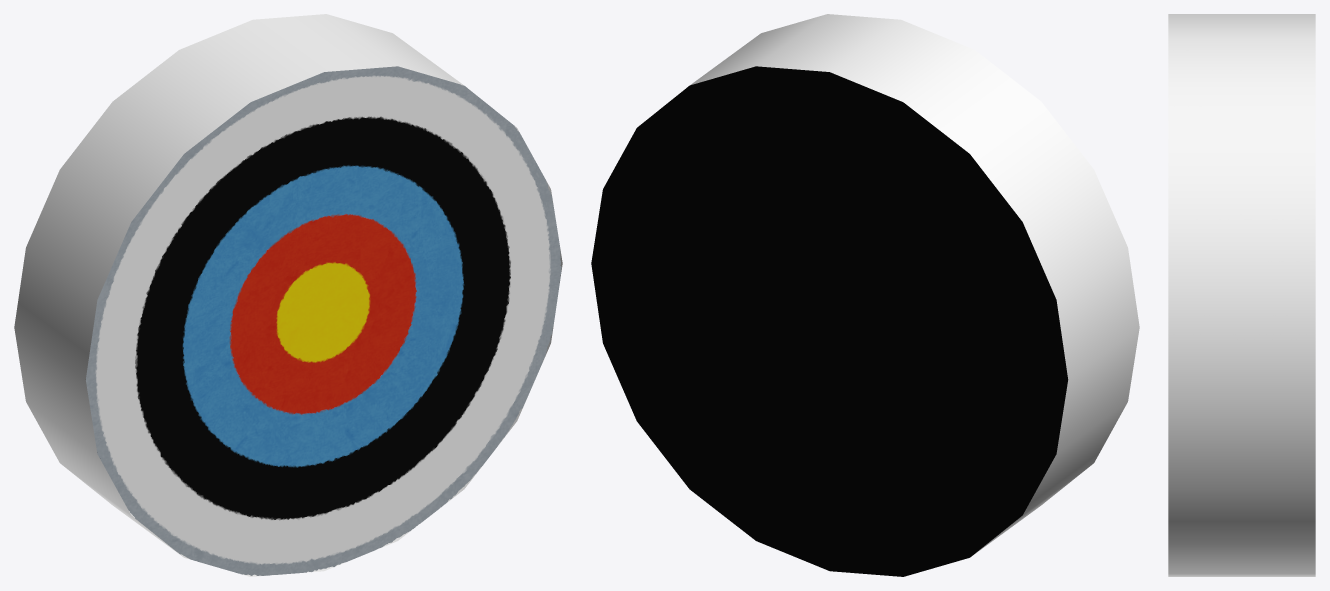
File: target.obj
The picture shows the model from 3 angles, left to right: view 1: azimuth 30°, elevation 25°; view 2: azimuth 150°, elevation 25°; view 3: azimuth 270°, elevation 25°; orthographic projection. The views are drawn at different scales.
Visible parts, largest first — view 1: pCylinder1; view 2: pCylinder1; view 3: pCylinder1.
Part boxes in pixels (x1,y1,x2,y2): pCylinder1: [14, 14, 562, 576]; pCylinder1: [591, 14, 1139, 576]; pCylinder1: [1168, 14, 1315, 576].
Size of the model in its own units: 2 by 2 by 0.5192.
Materials: 1 (1 with a texture image).
